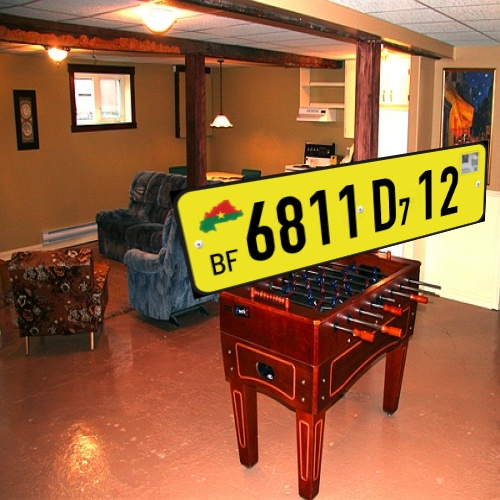plate: (153, 132, 493, 307)
